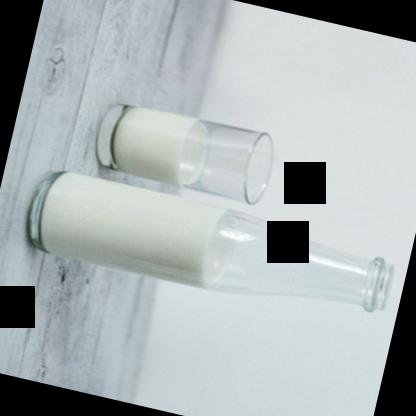milk: (28, 166, 400, 330), (88, 94, 280, 209)
